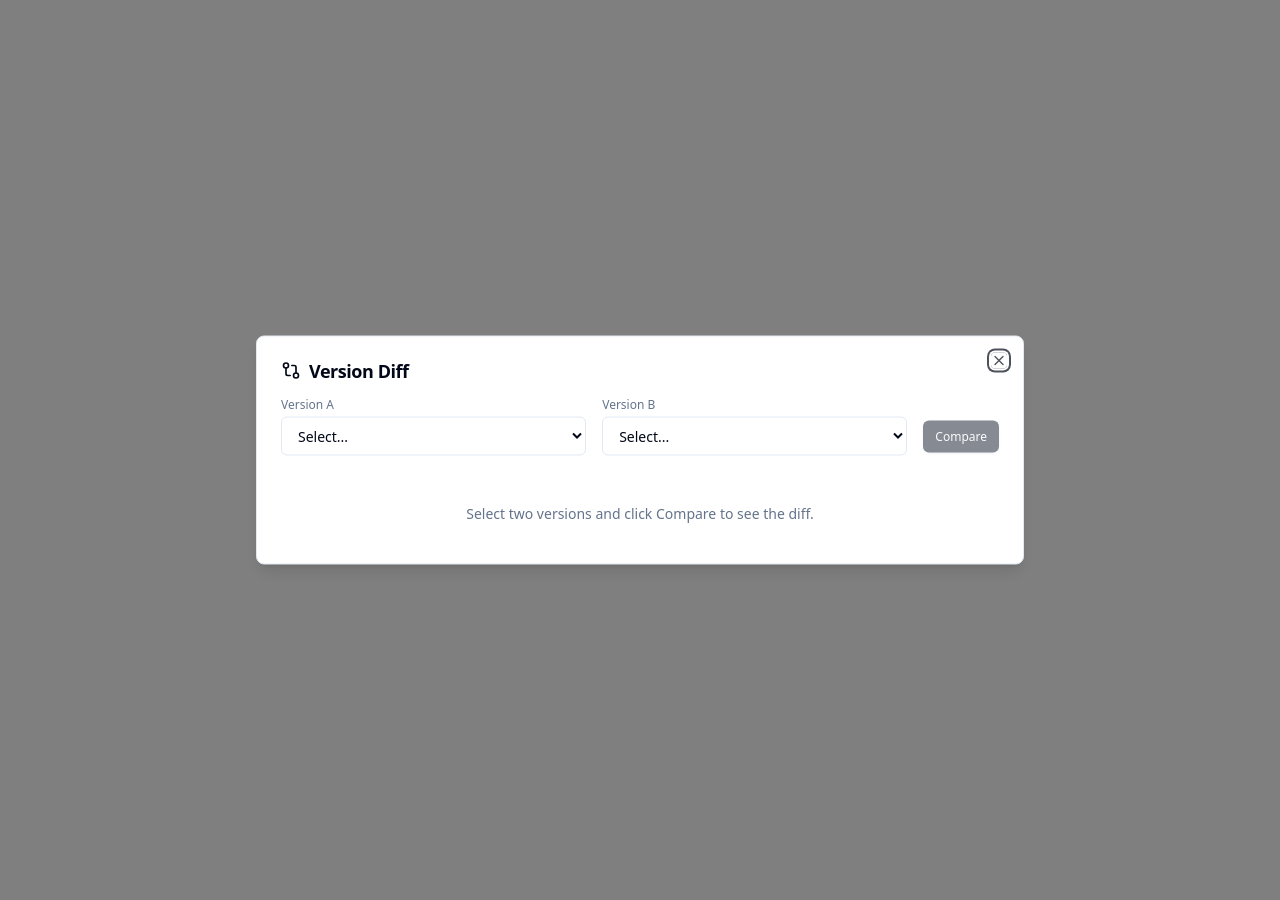
VersionDiff › shows added lines with green background
Expected: the button "Compare" is shown, [923, 420, 999, 452]
Select "v2 — Updated" in the dropdown below "Version A" at {"x": 434, "y": 436}, box [281, 416, 586, 456]
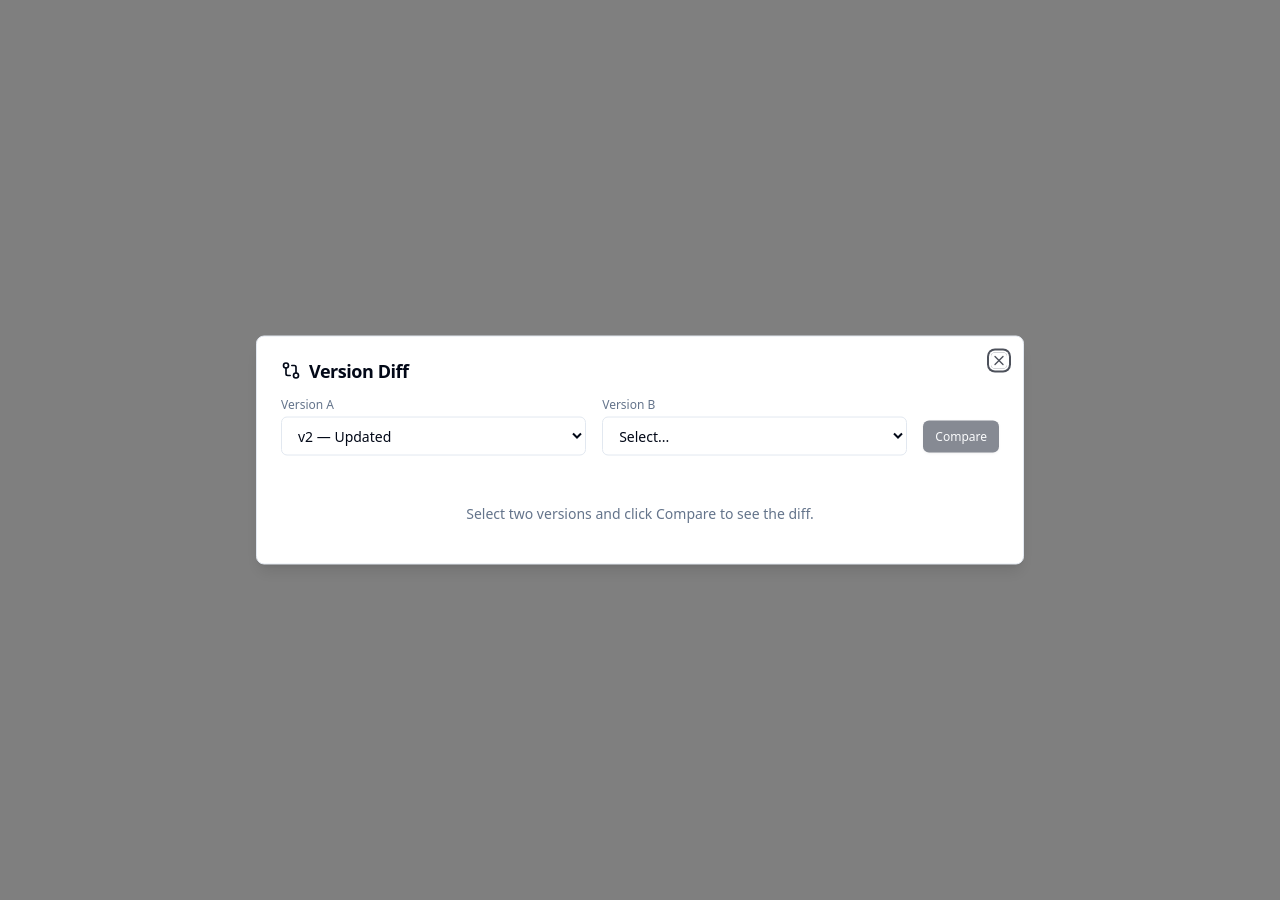
Select "v1 — Initial" in the dropdown below "Version B" at {"x": 755, "y": 436}, box [602, 416, 907, 456]
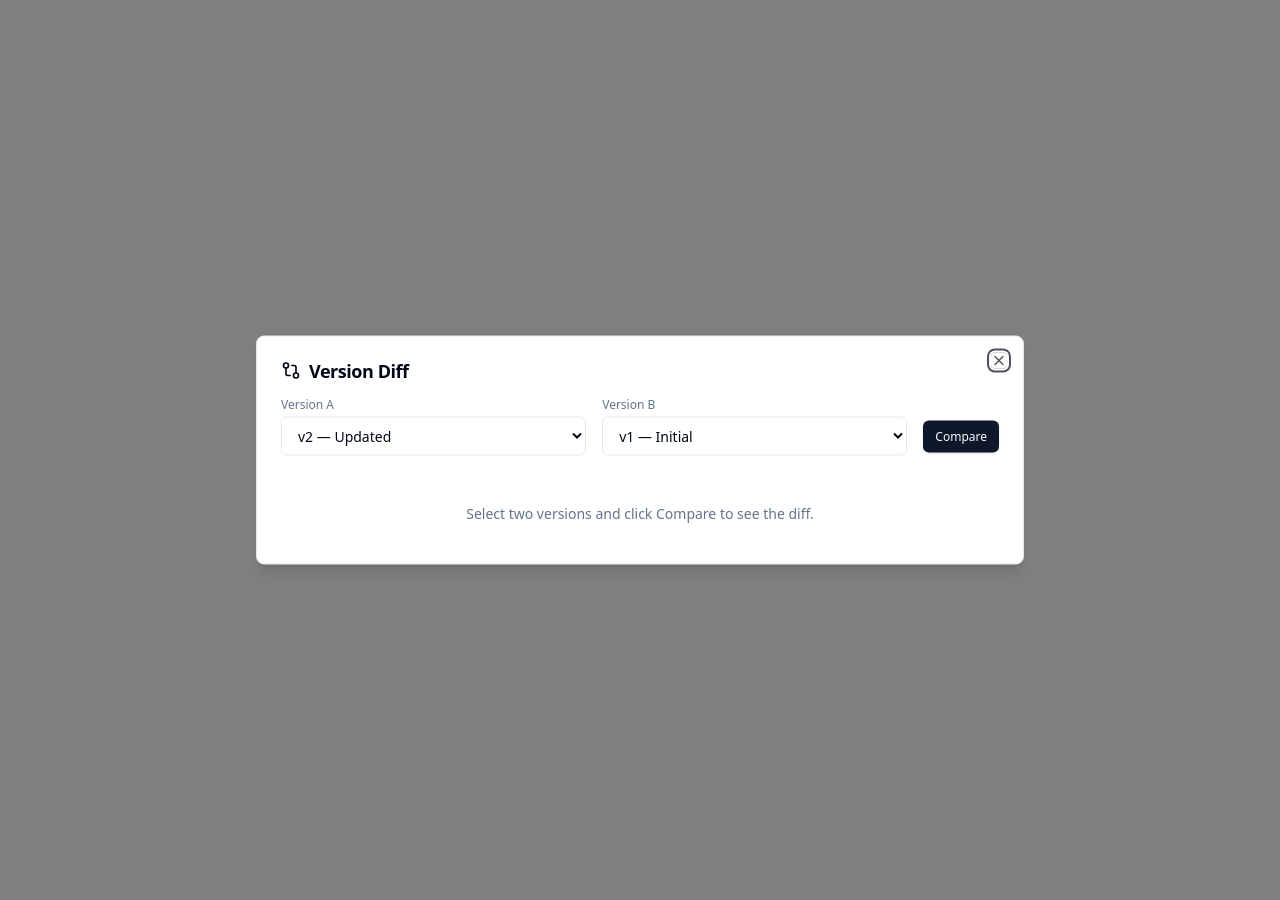
Click the button "Compare" at {"x": 961, "y": 436}, box [923, 420, 999, 452]
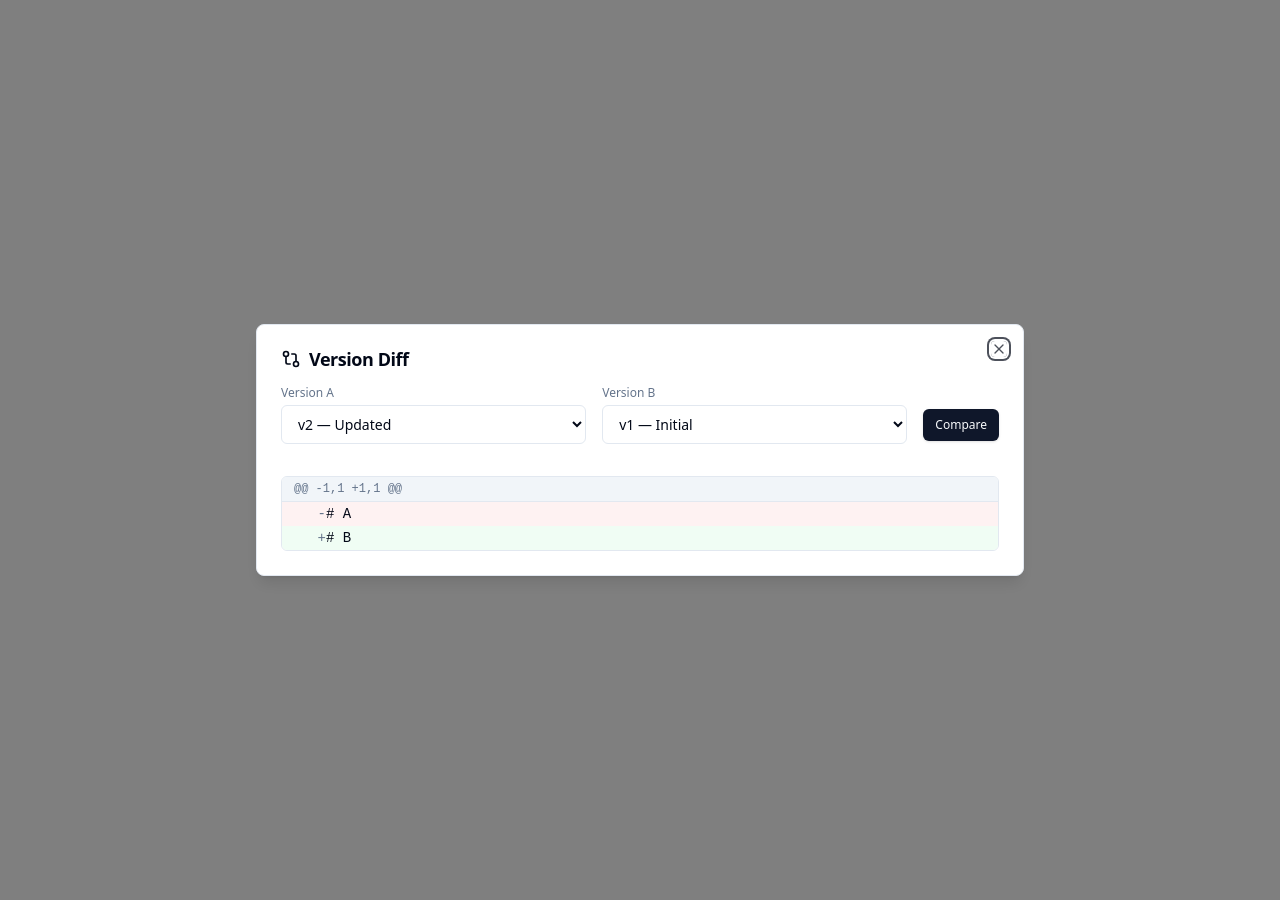
Expected: the text "# B" is shown, [326, 530, 351, 546]
